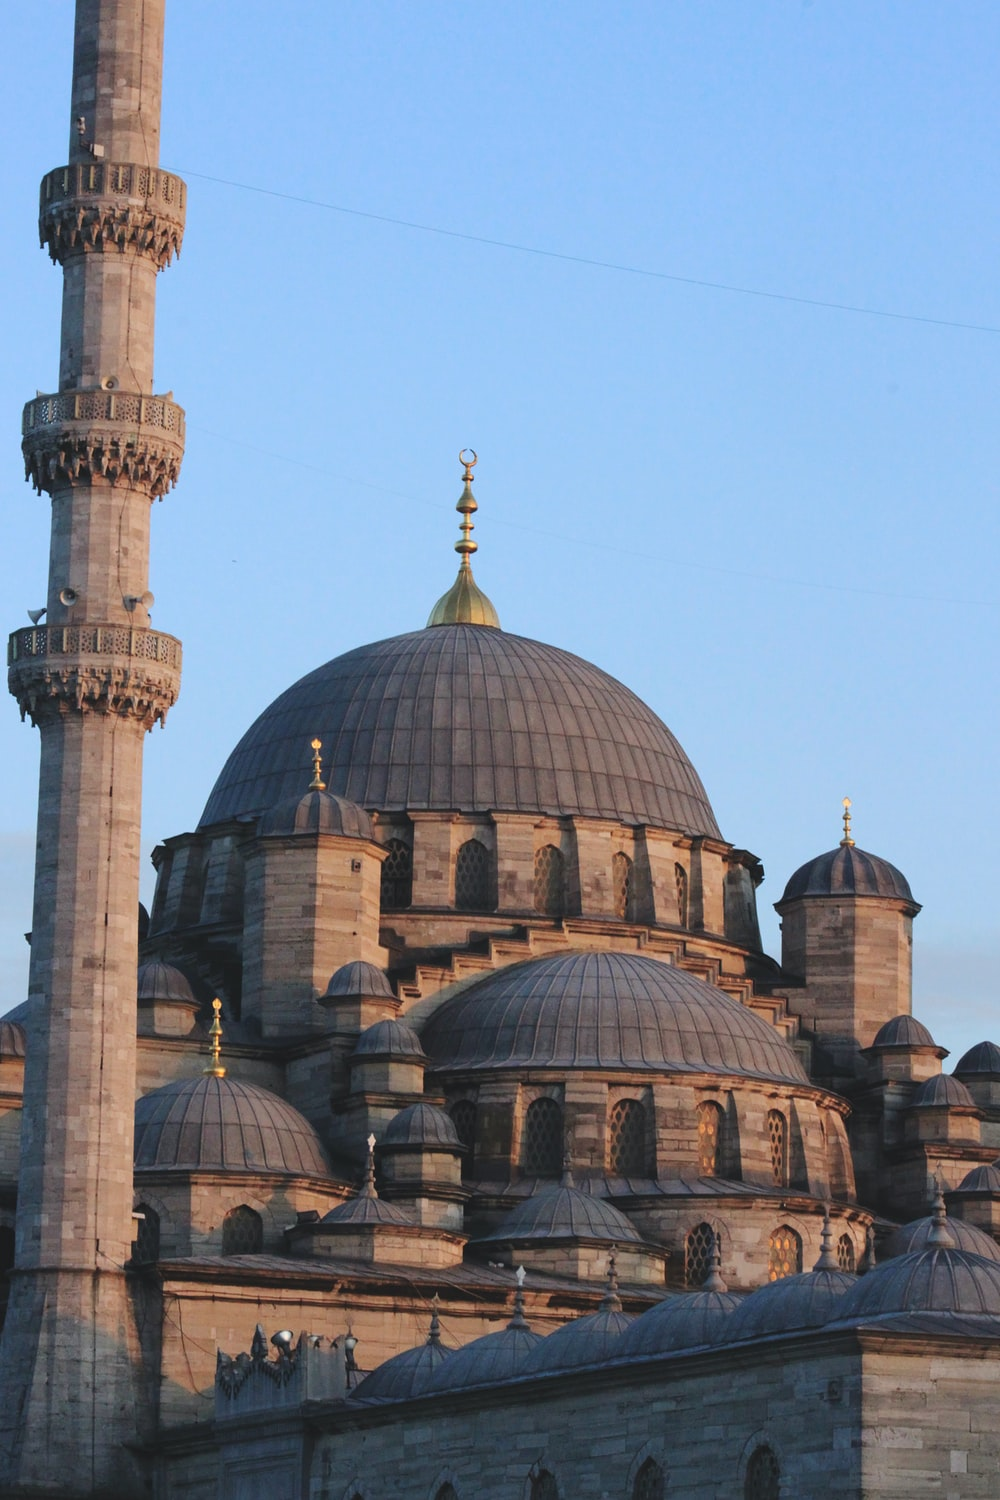Mosque: (25, 57, 994, 1455)
